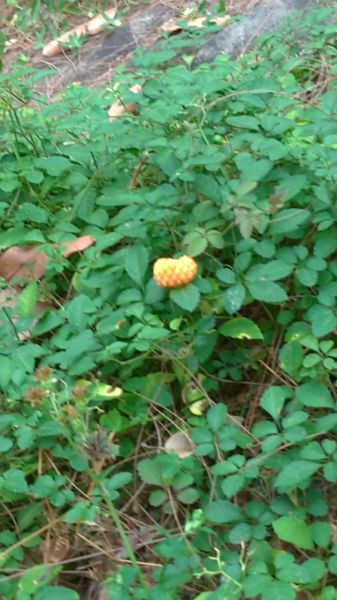eggs: (147, 248, 203, 294)
